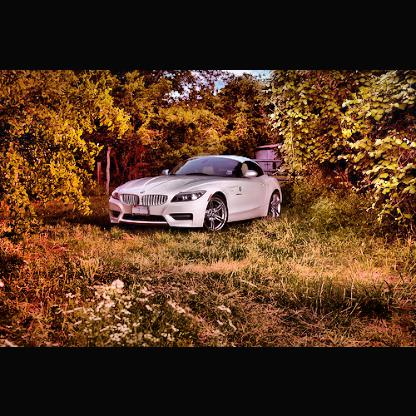BMW Z4 Convertible 2012: (107, 154, 289, 232)
